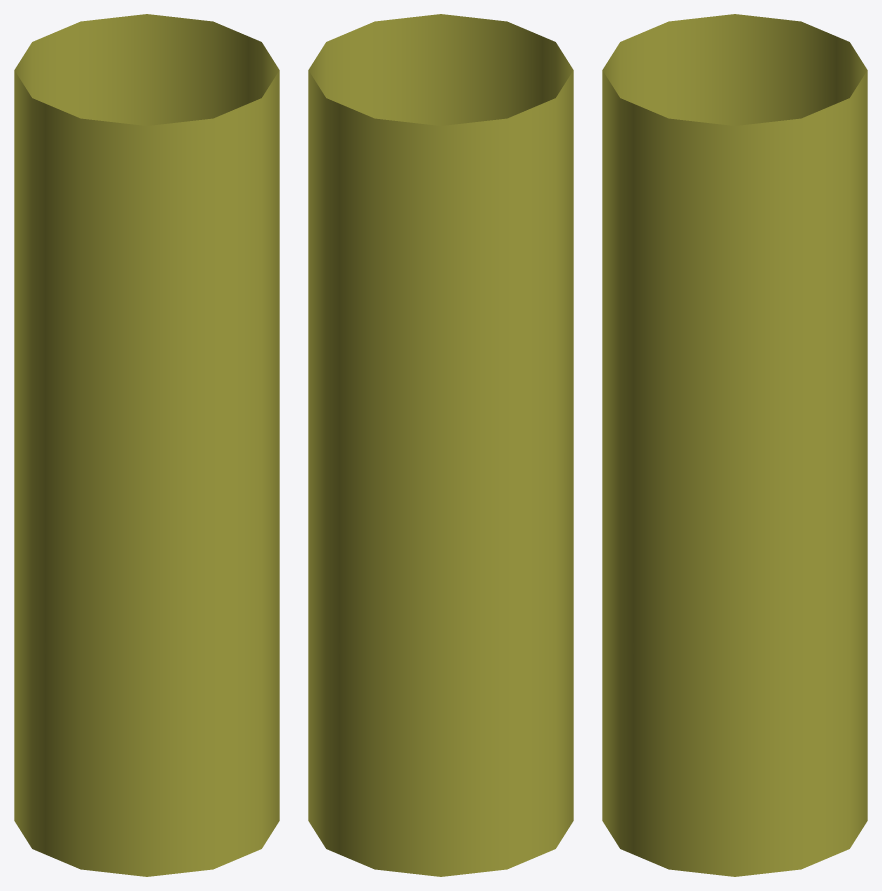
The model's file is E_Lightshafts.fbx.
3 renders of one model, left to right at view 1: azimuth 30°, elevation 25°; view 2: azimuth 150°, elevation 25°; view 3: azimuth 270°, elevation 25°, orthographic.
Visible parts, largest first — view 1: E_LightShaft; view 2: E_LightShaft; view 3: E_LightShaft.
Boxes of the visible parts, x1,y1,x2,y2 form: E_LightShaft: [14, 14, 279, 876]; E_LightShaft: [308, 14, 573, 876]; E_LightShaft: [602, 14, 867, 876].
Size of the model in its own units: 800 by 2500 by 800.
